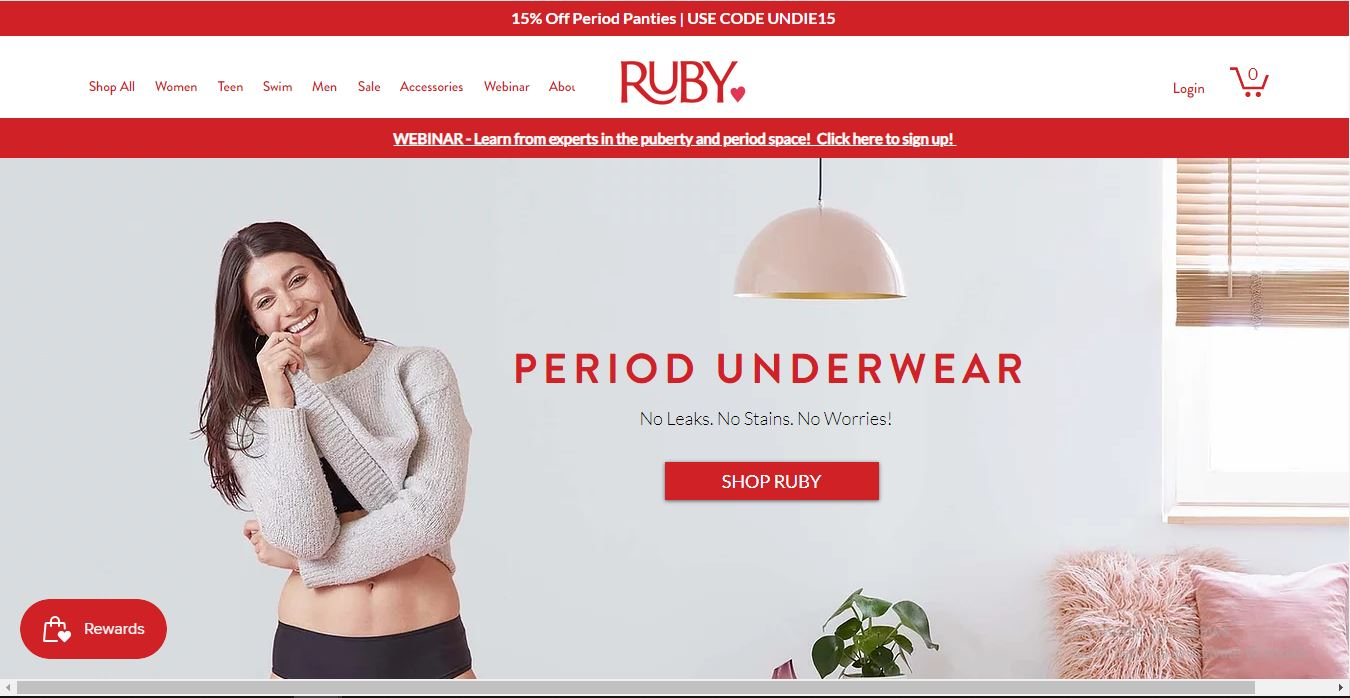Button: (24, 594, 163, 662), (659, 459, 878, 496)
Menu Bar: (74, 50, 587, 112)
Nav Bar: (1163, 52, 1284, 110)
